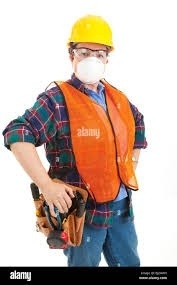safety_goggles: (65, 47, 116, 64)
